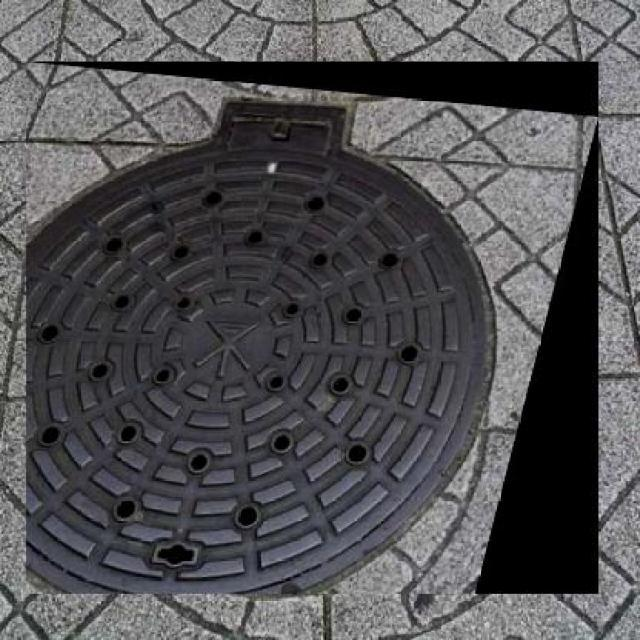Manhole: (26, 61, 599, 594)
